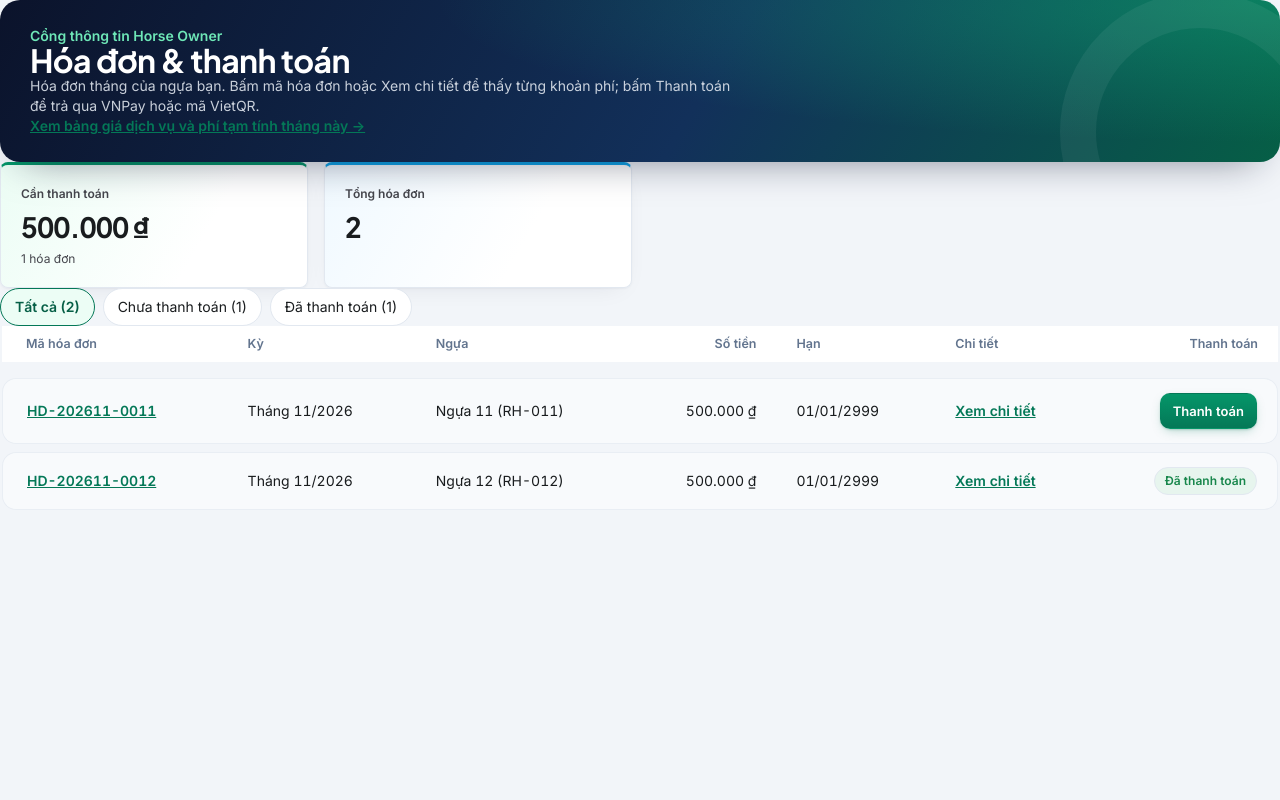
DEC-016 owner invoice list: pay popup › closes the popup and refreshes the list when cancelling finds the VNPay link already paid
Click the button with aria-label "Thanh toán hóa đơn HD-202611-0011" at (1208, 411), box [1160, 393, 1257, 429]
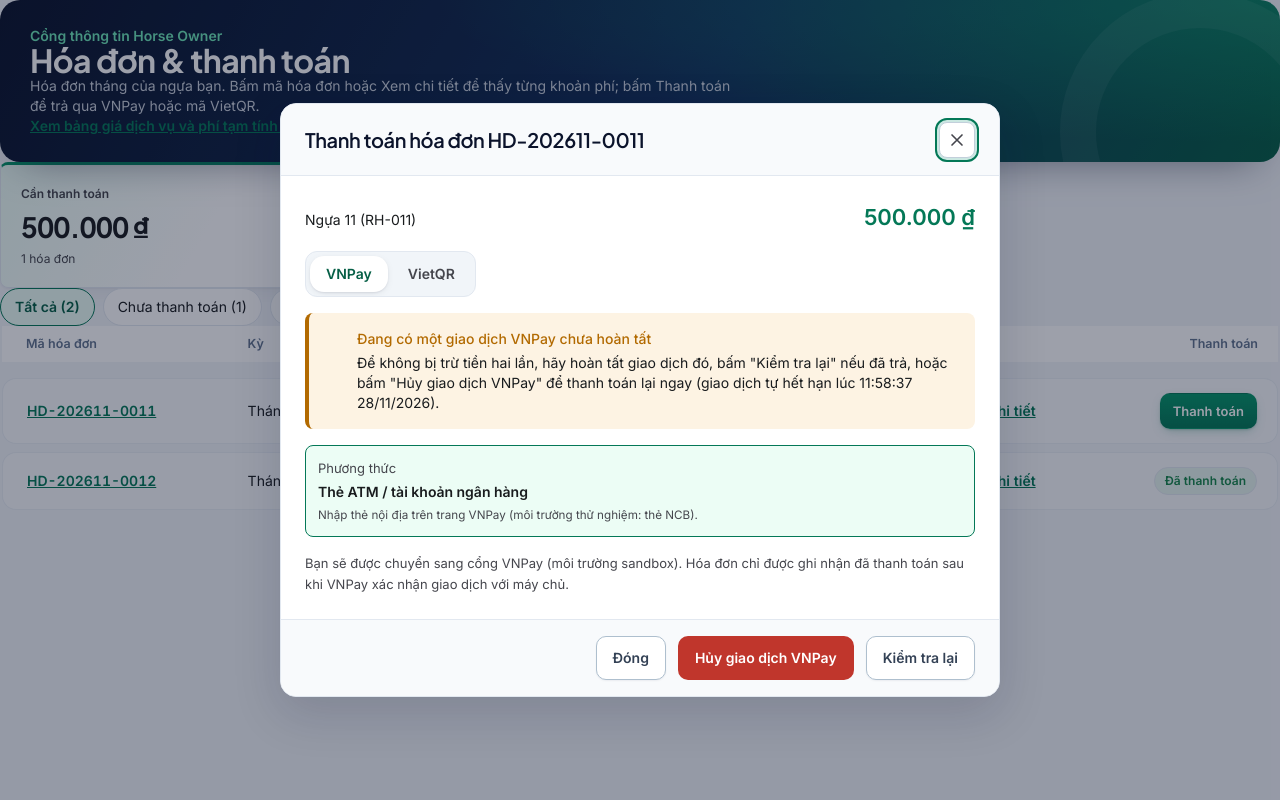
Click the button "Hủy giao dịch VNPay" at (766, 658), box [678, 636, 854, 680]
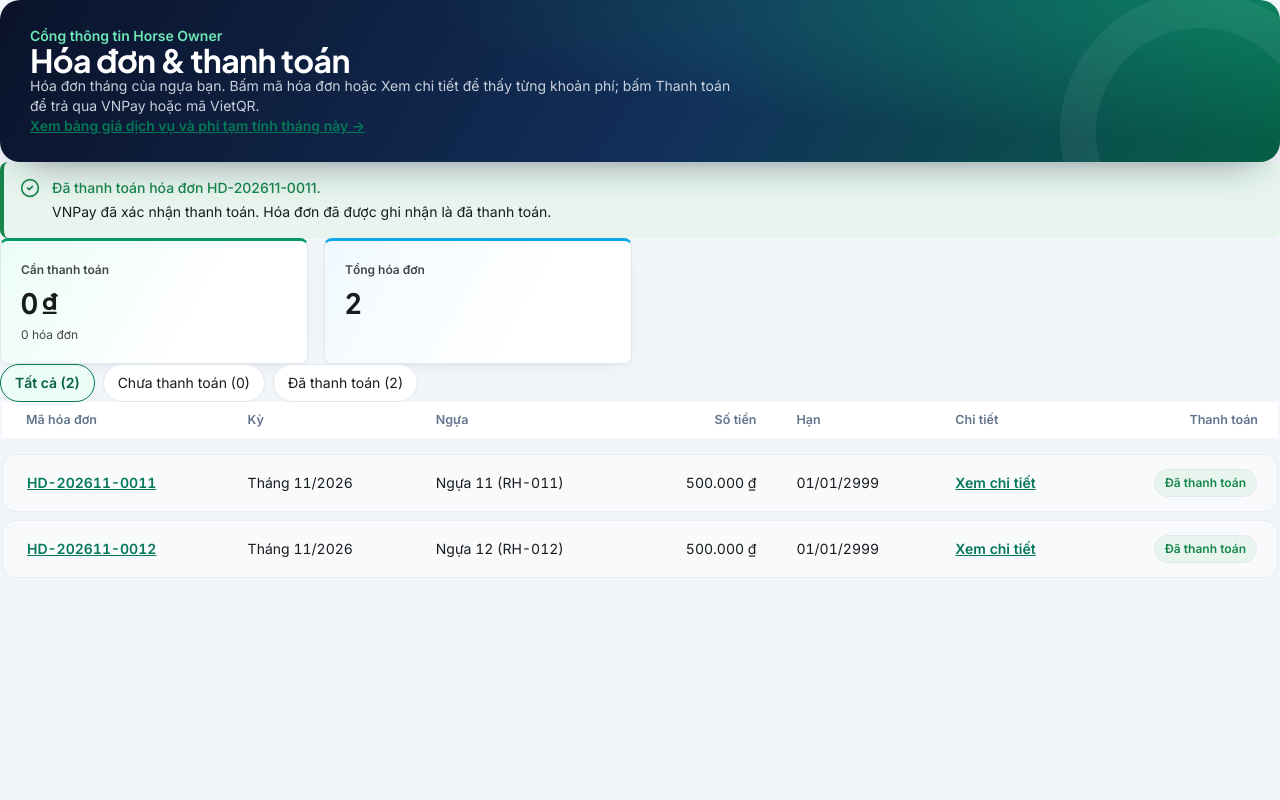
Result: the text "Đã thanh toán hóa đơn HD-202611-0011." is shown at [52, 179, 321, 196]
Result: the dialog is gone
